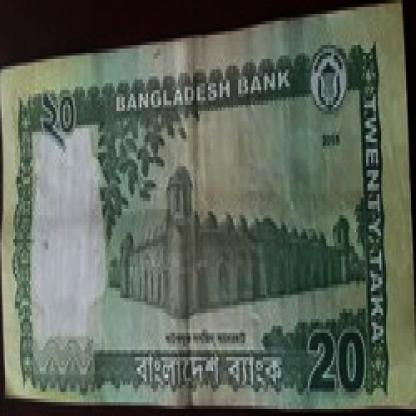Twenty: (297, 326, 370, 405), (34, 90, 86, 163)
